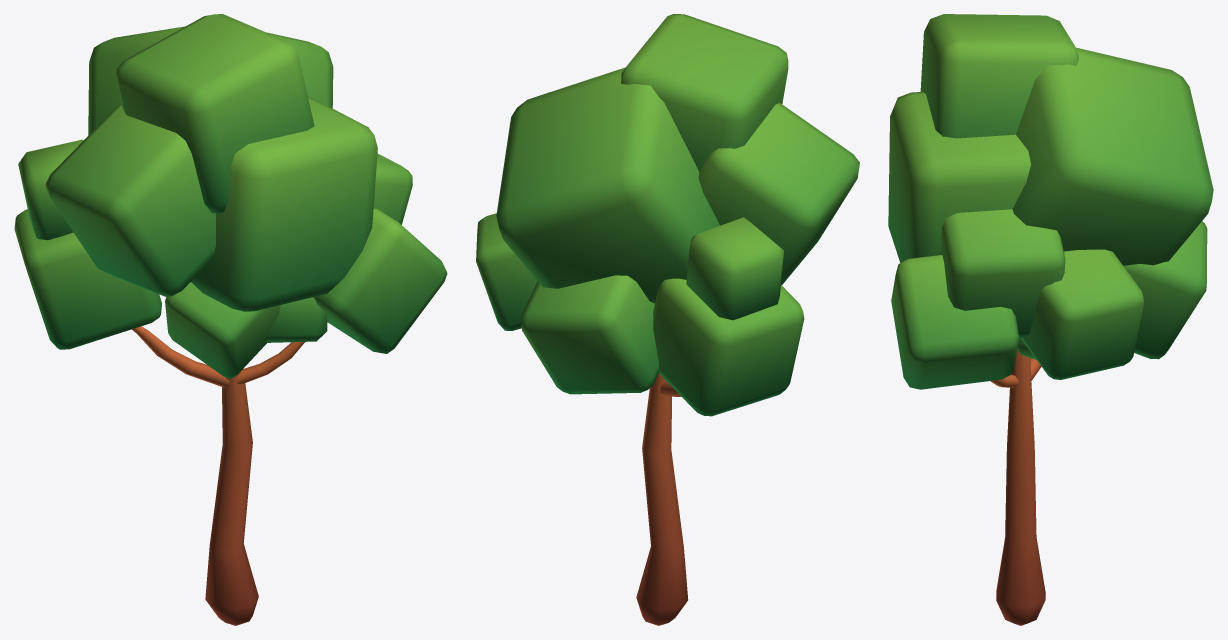
Rendered from Tree_2_D_Color1.glb.
3 views of the same model, side by side, from view 1: azimuth 30°, elevation 25°; view 2: azimuth 150°, elevation 25°; view 3: azimuth 270°, elevation 25° (orthographic). The views are drawn at different scales.
Parts seen in each view (by area): view 1: Tree_2_D_Color1; view 2: Tree_2_D_Color1; view 3: Tree_2_D_Color1.
Boxes of the visible parts, bbox=[...] form: Tree_2_D_Color1: bbox=[14, 14, 447, 625]; Tree_2_D_Color1: bbox=[476, 14, 859, 625]; Tree_2_D_Color1: bbox=[888, 14, 1213, 625].
Size of the model in its own units: 4.74 by 8.09 by 4.03.
Materials: 1 (1 with a texture image).
